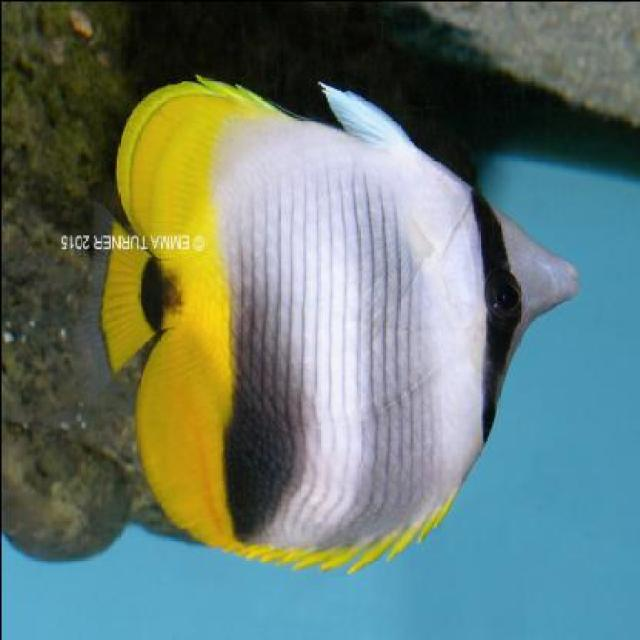ButterflyFish: (107, 71, 576, 574)
